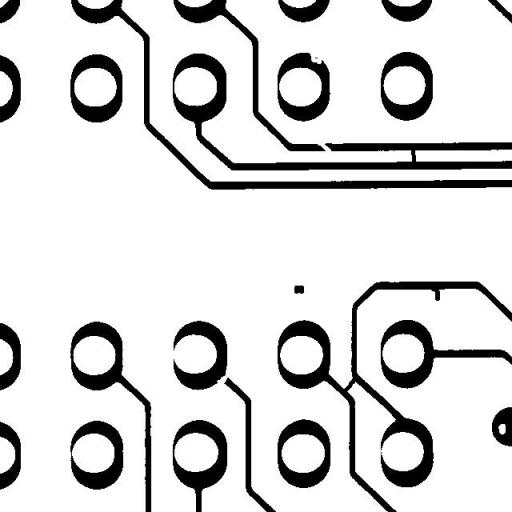copper: (286, 278, 312, 300)
mousebite: (302, 44, 329, 71)
open: (208, 364, 238, 394), (309, 133, 338, 160)
pin-hole: (490, 416, 512, 442)
short: (331, 369, 364, 401), (403, 140, 423, 170)
spur: (423, 278, 448, 308)
